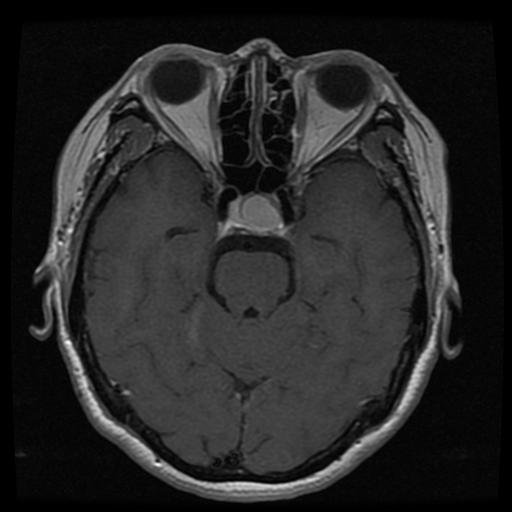Pituirity_tumour: (227, 193, 280, 234)
